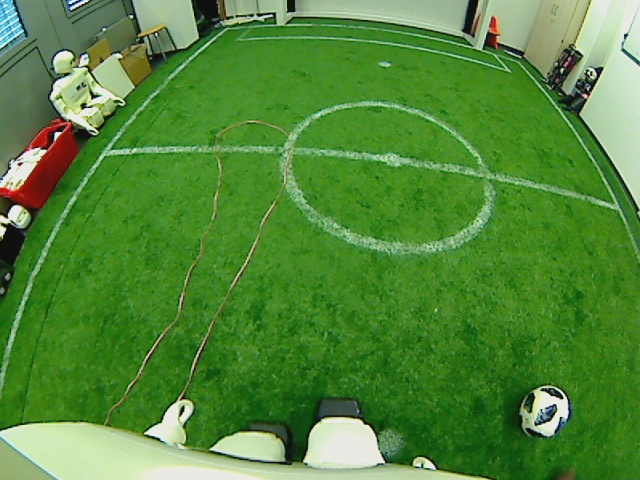ball: (516, 380, 573, 441)
